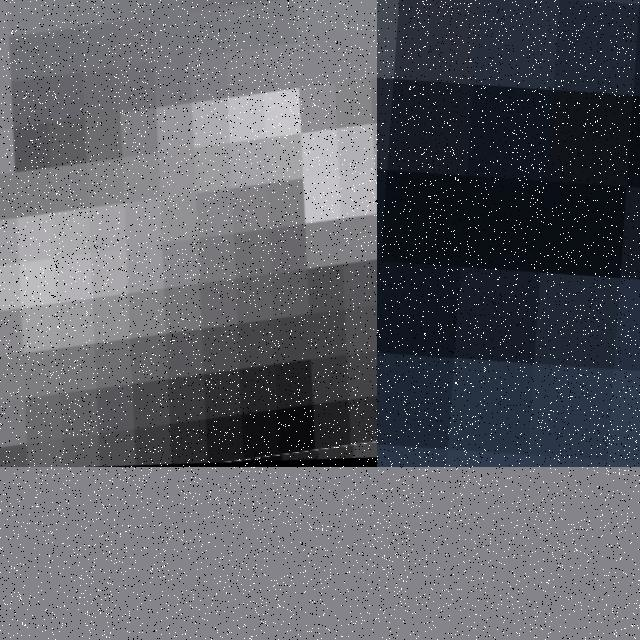drone: (0, 0, 377, 467)
